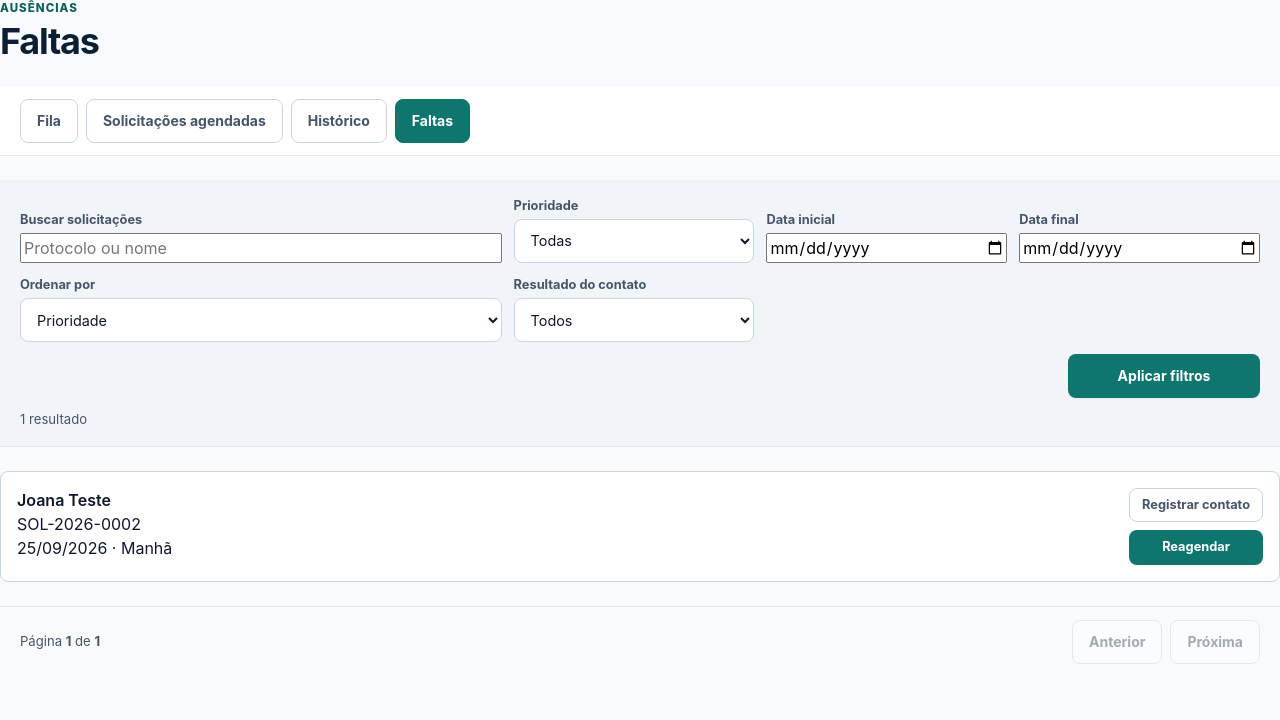
Aba de Faltas › mostra erro se outro operador já reagendou a falta
The image size is (1280, 720).
Click the button "Reagendar" at (1196, 547), box [1129,530,1263,564]
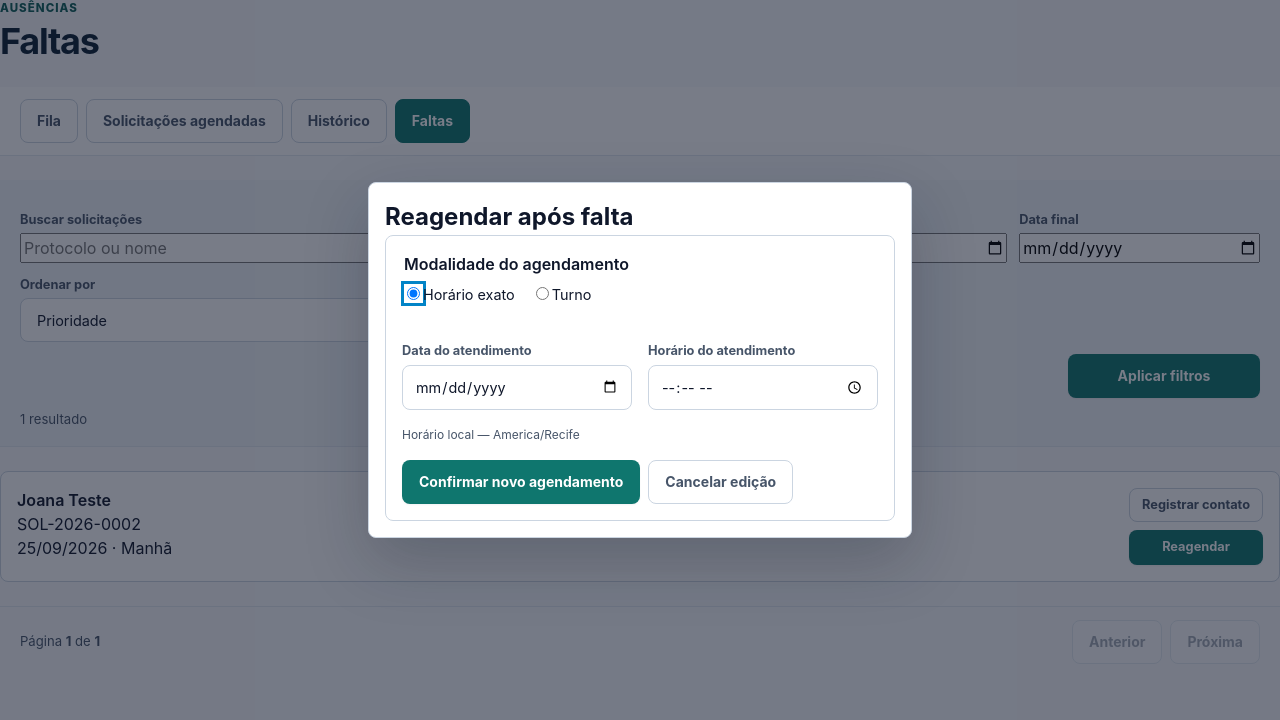
Type "2026-09-30" into the date field labelled "Data do atendimento" at (517, 387), box [402,365,632,410]
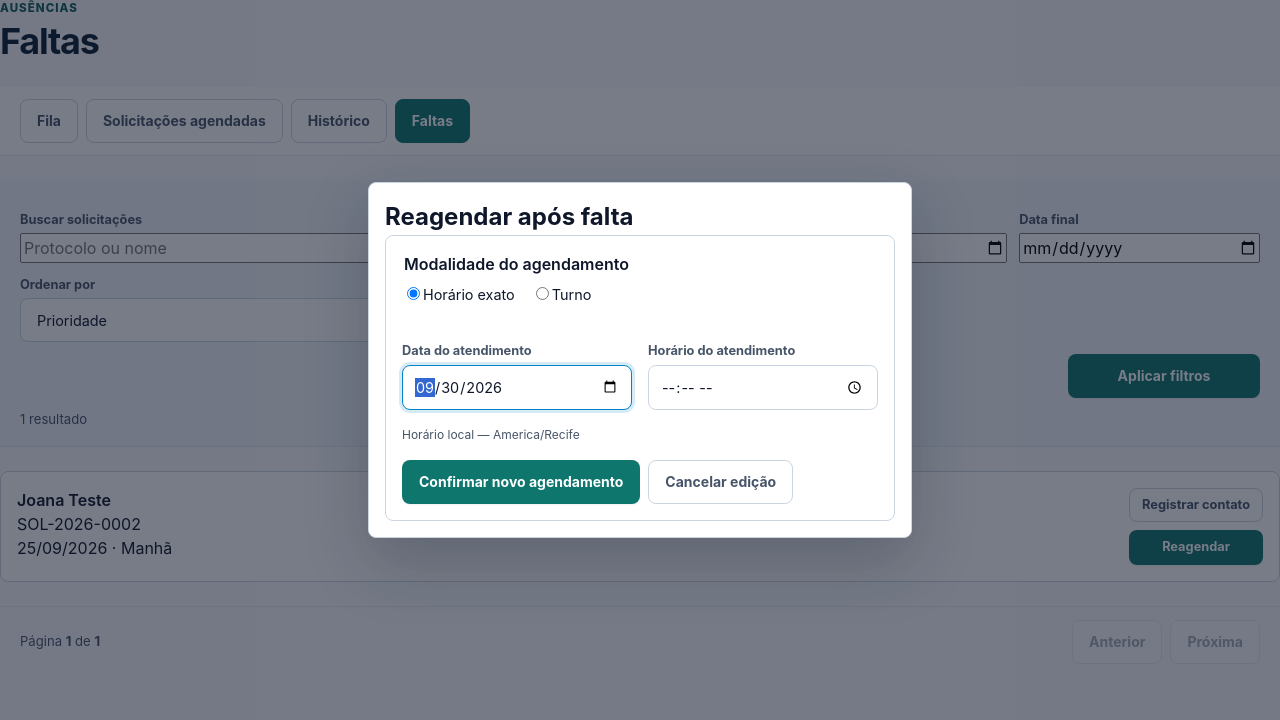
Click the radio button labelled "Turno" at (542, 293), box [536,287,549,300]
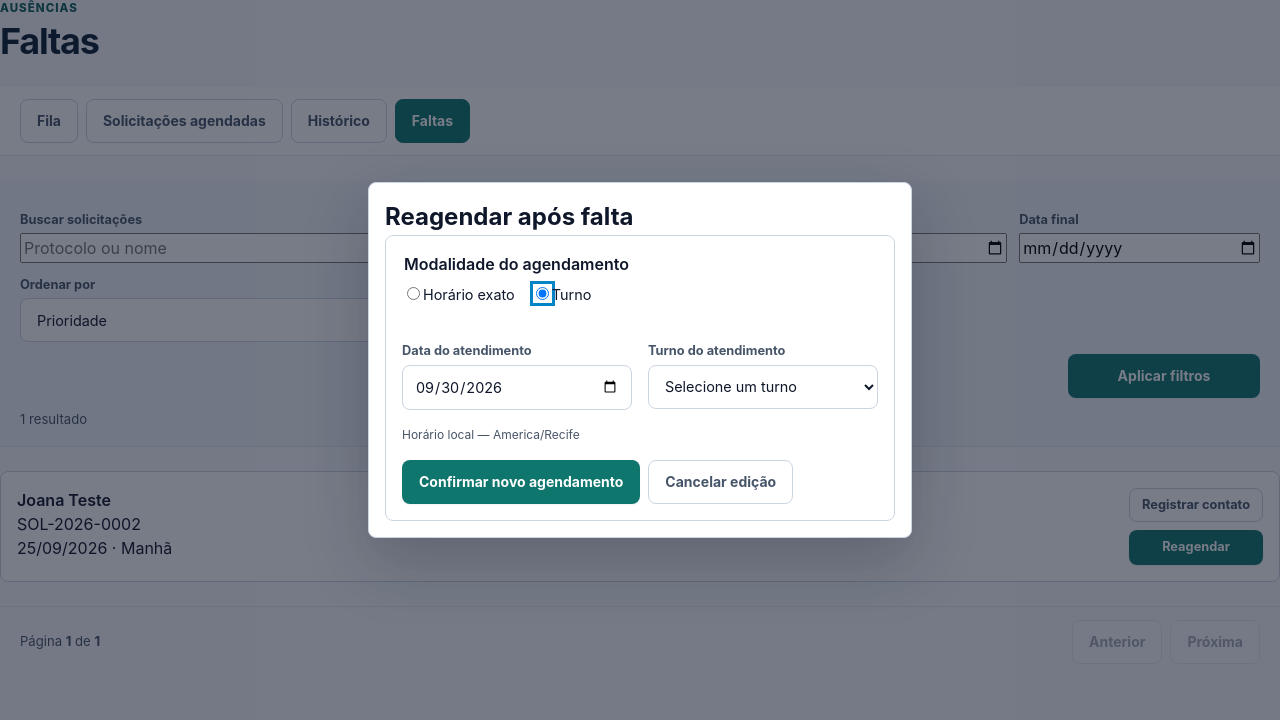
Select "Tarde" in the dropdown labelled "Turno do atendimento" at (763, 387), box [648,365,878,409]
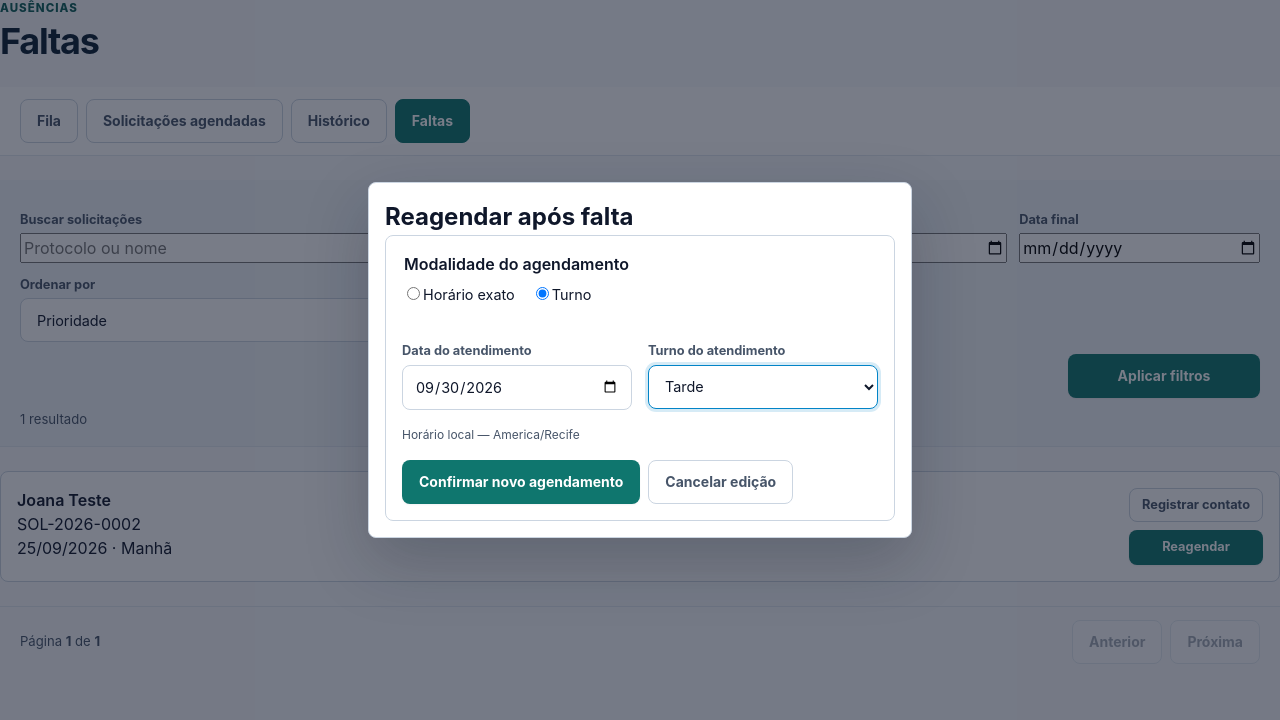
Click the button "Confirmar novo agendamento" at (521, 482), box [402,460,640,504]
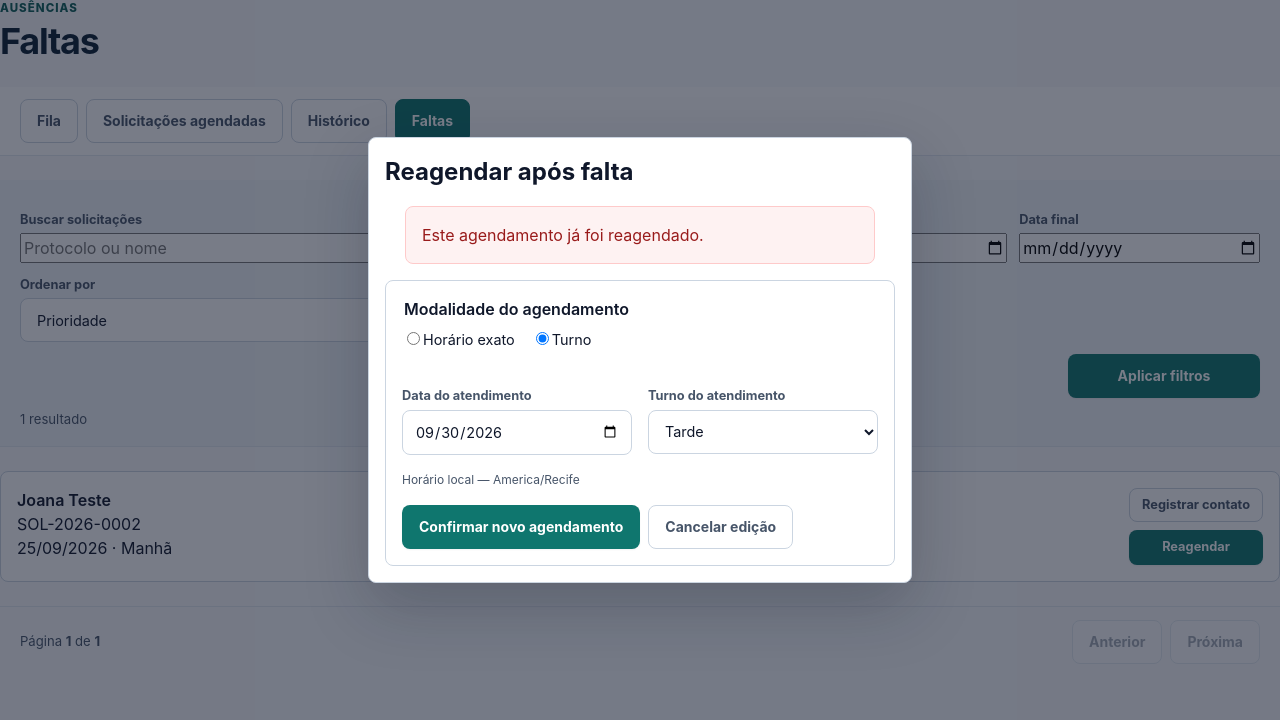
Now the dialog "Reagendar após falta" is shown, box [368,137,912,583]
Now the message reads "Este agendamento já foi reagendado.", box [422,225,704,245]
